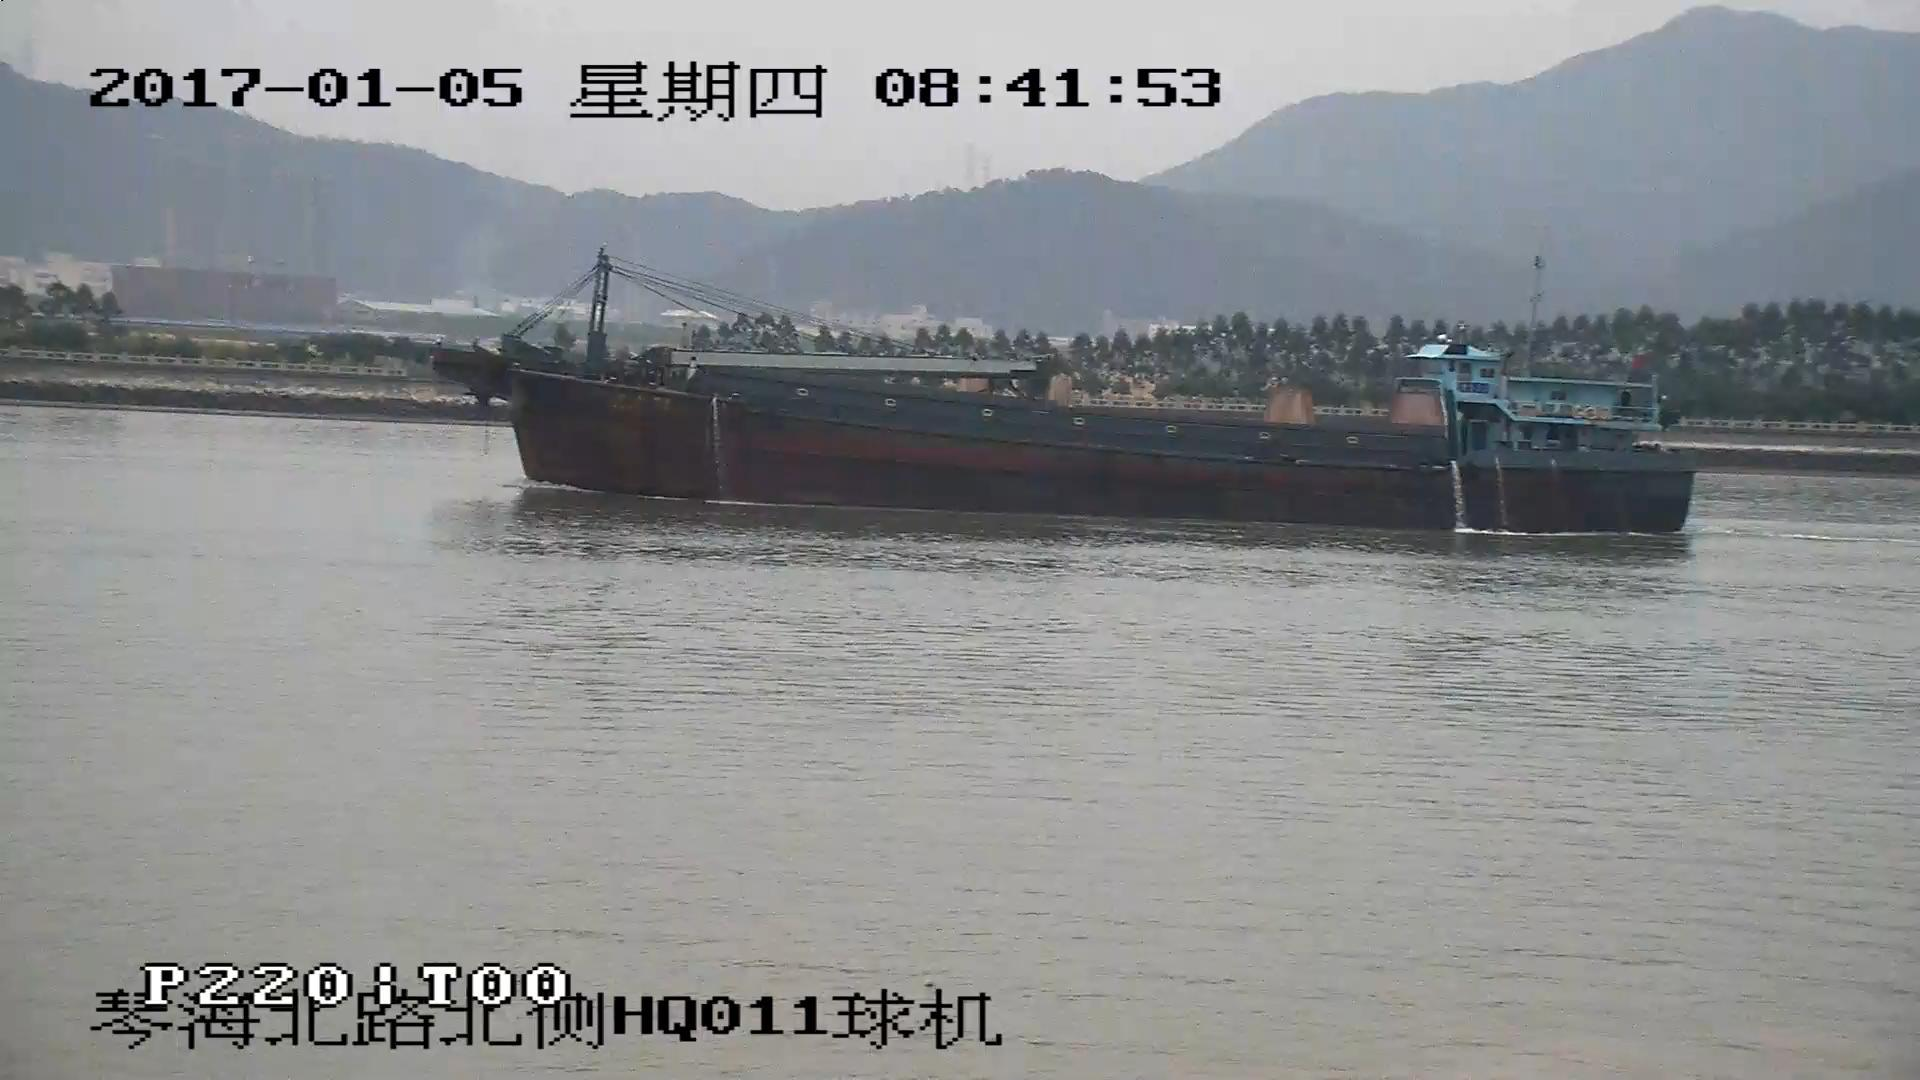Ship: (433, 258, 1695, 533)
